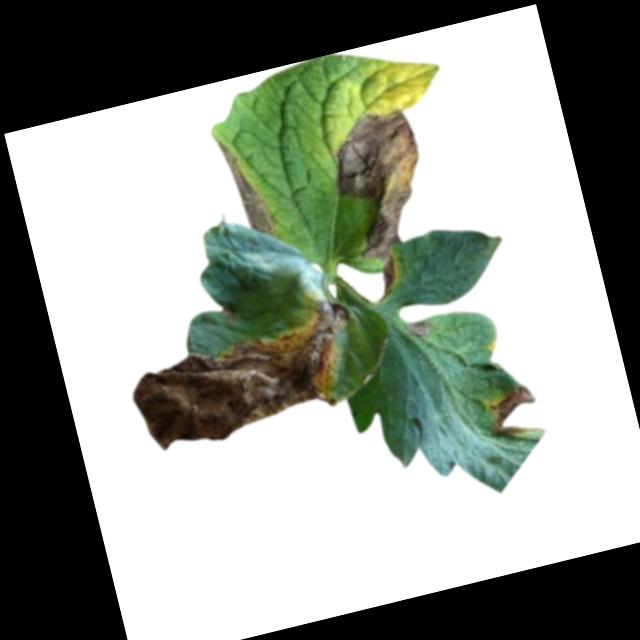Early_blight: (120, 294, 369, 457), (329, 106, 442, 262), (216, 134, 276, 246), (478, 383, 546, 445), (371, 256, 404, 302), (402, 318, 430, 340), (220, 302, 237, 322)
